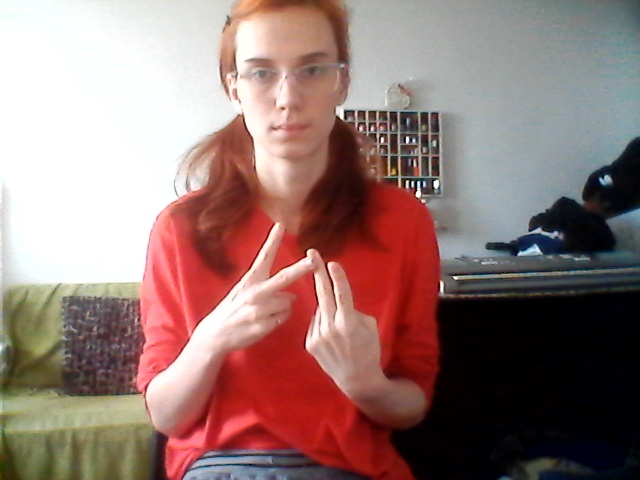w: (209, 217, 395, 375)
